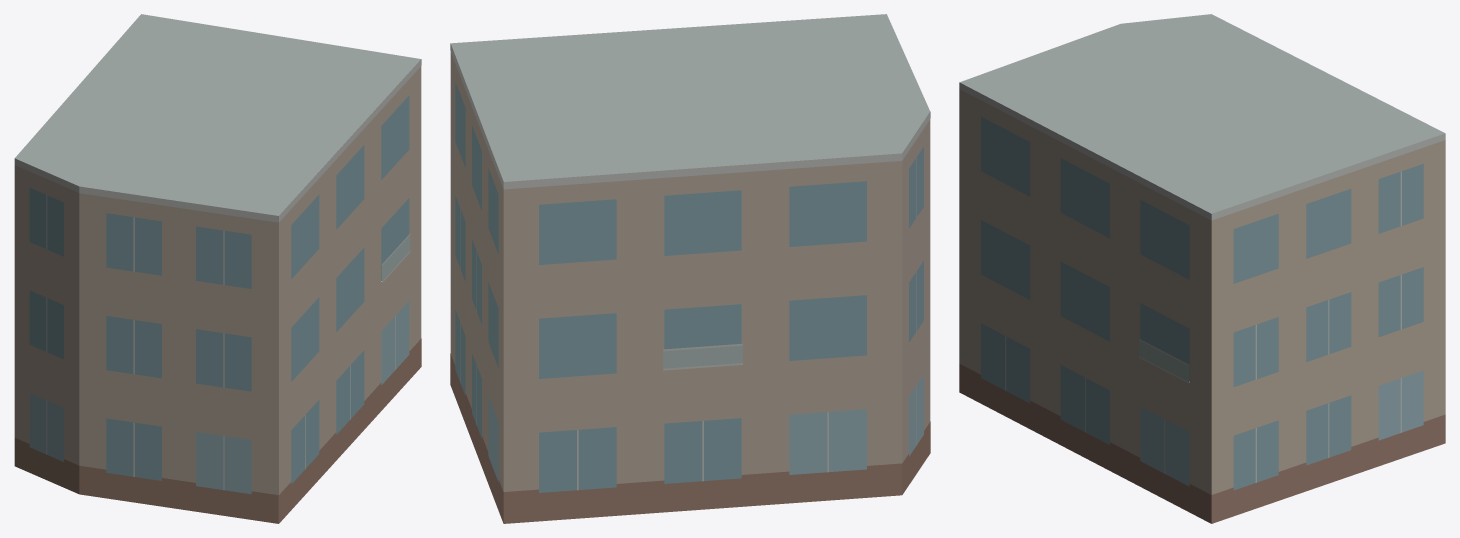
Rendered from survey-upis-32641367.glb.
3 views of the same model, side by side, from view 1: azimuth 30°, elevation 25°; view 2: azimuth 150°, elevation 25°; view 3: azimuth 270°, elevation 25° (orthographic). The views are drawn at different scales.
Visible parts, largest first — view 1: survey-upis-32641367.tmp; view 2: survey-upis-32641367.tmp; view 3: survey-upis-32641367.tmp.
Boxes of the visible parts, x1,y1,x2,y2 form: survey-upis-32641367.tmp: (14, 14, 421, 523); survey-upis-32641367.tmp: (450, 14, 930, 523); survey-upis-32641367.tmp: (959, 14, 1445, 523).
Bounding box in the file's own units: 15.63 × 11.3 × 16.06.
